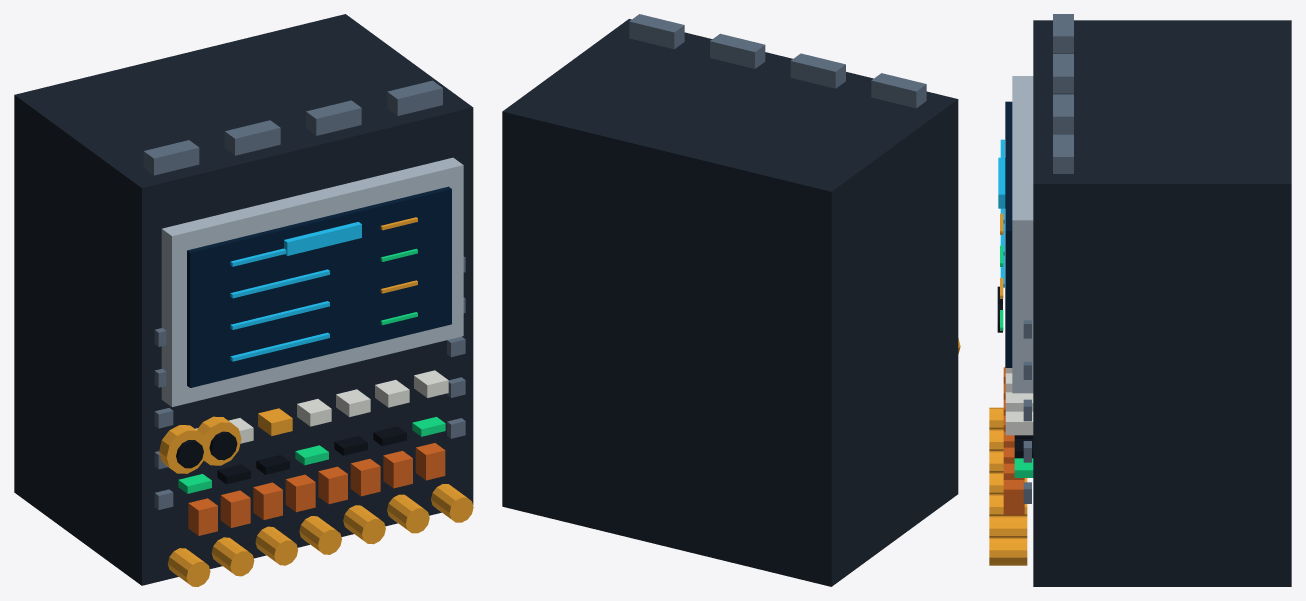
The model's file is 39_L87_SafeSpinUpSequencer.fbx.
3 views of the same model, side by side, from view 1: azimuth 30°, elevation 25°; view 2: azimuth 150°, elevation 25°; view 3: azimuth 270°, elevation 25° (orthographic).
Parts seen in each view (by area): view 1: L87_SafeSpinUpSequencer, L87_SafeSpinUpSequencer_Part_0010, L87_SafeSpinUpSequencer_Part_0011, L87_SafeSpinUpSequencer_Part_0012, L87_SafeSpinUpSequencer_Part_0014, L87_SafeSpinUpSequencer_Part_0015, L87_SafeSpinUpSequencer_Part_0013; view 2: L87_SafeSpinUpSequencer, L87_SafeSpinUpSequencer_Part_0010; view 3: L87_SafeSpinUpSequencer, L87_SafeSpinUpSequencer_Part_0010, L87_SafeSpinUpSequencer_Part_0011.
Boxes of the visible parts, x1,y1,x2,y2 form: L87_SafeSpinUpSequencer: (14,14,473,586); L87_SafeSpinUpSequencer_Part_0010: (143,80,442,175); L87_SafeSpinUpSequencer_Part_0011: (284,222,361,255); L87_SafeSpinUpSequencer_Part_0012: (159,425,207,473); L87_SafeSpinUpSequencer_Part_0014: (197,416,241,465); L87_SafeSpinUpSequencer_Part_0015: (209,431,237,460); L87_SafeSpinUpSequencer_Part_0013: (176,440,203,468); L87_SafeSpinUpSequencer: (502,19,958,586); L87_SafeSpinUpSequencer_Part_0010: (629,14,926,108); L87_SafeSpinUpSequencer: (989,20,1291,586); L87_SafeSpinUpSequencer_Part_0010: (1053,14,1073,173); L87_SafeSpinUpSequencer_Part_0011: (998,157,1005,208).
Bounding box in the file's own units: 104 × 124 × 81.09.
